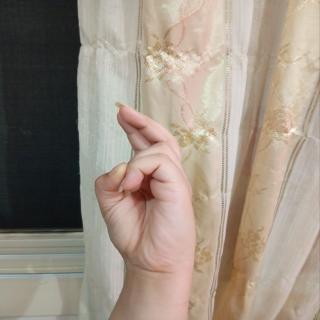ZAY: (72, 97, 204, 288)
